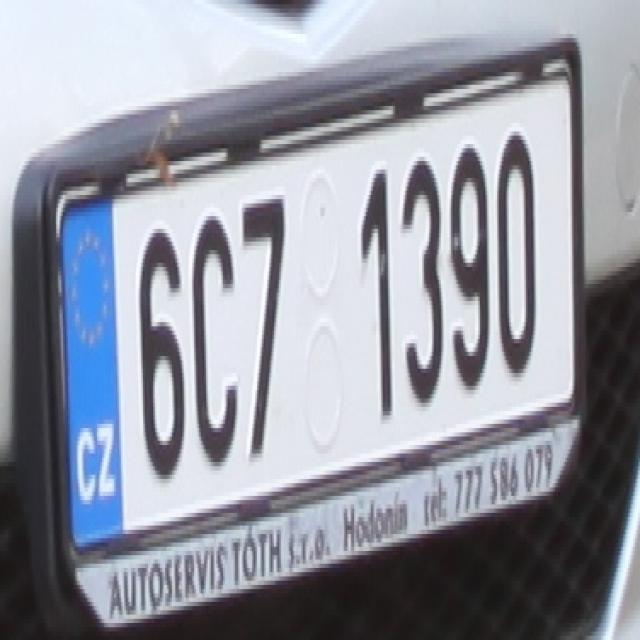0: (497, 123, 538, 381)
1: (356, 153, 395, 420)
3: (398, 148, 443, 407)
6: (136, 221, 186, 484)
7: (240, 195, 286, 470)
9: (448, 131, 490, 390)
C: (189, 204, 237, 466)
